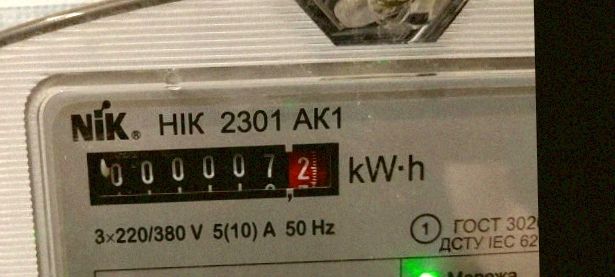0: (168, 154, 187, 182), (138, 157, 156, 185), (107, 160, 125, 187), (230, 150, 247, 178), (200, 152, 216, 179)
2: (295, 153, 312, 182)
7: (260, 150, 277, 180)
screen: (78, 133, 352, 211)
